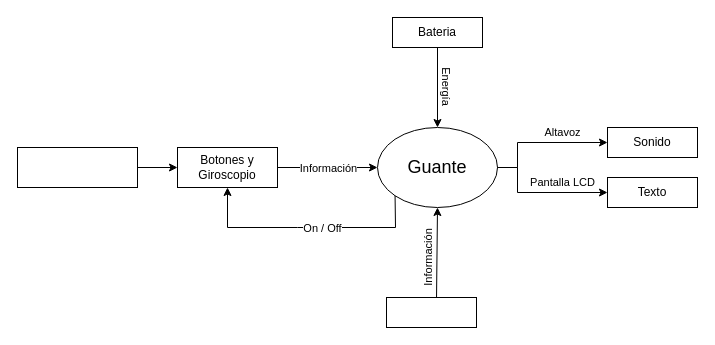
Some shapes in this 715 by 345 pixel diagram are drawn without their labels. The box of each missing label's shape, as (x1, y1, x2, y2) in pixels:
App: (386, 296, 476, 328)
Usuario (Estudiante): (16, 146, 138, 188)
